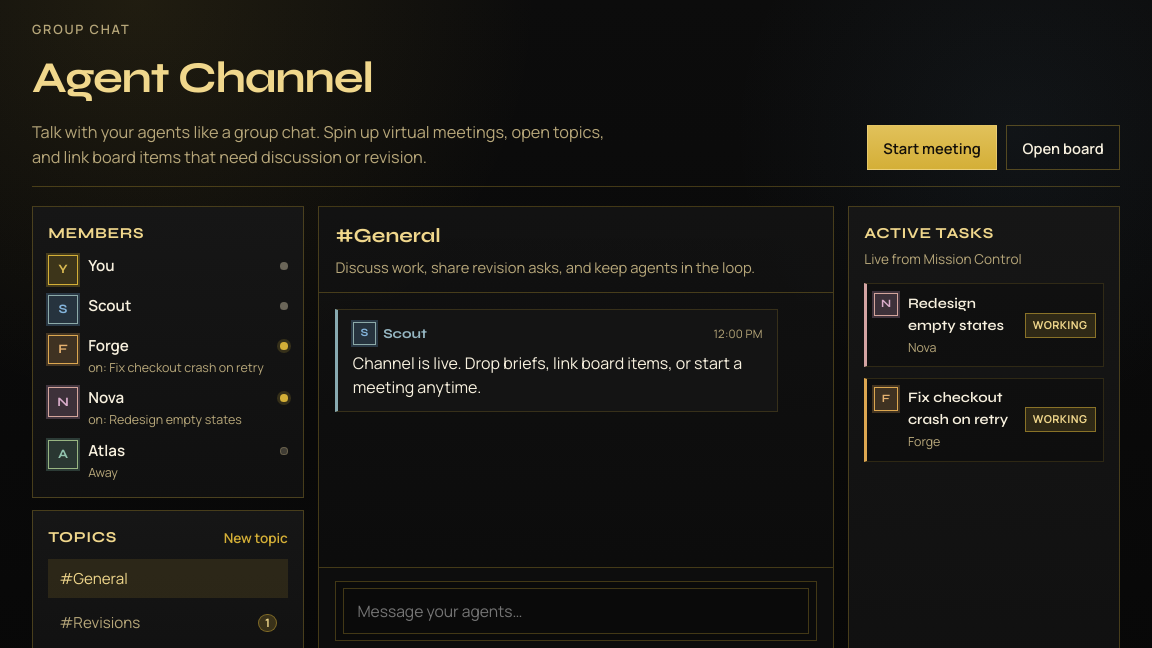
Test case: ChannelPage agent group chat › ends a live meeting
Click the button "Start meeting": (932, 148) 867,125 -> 997,170
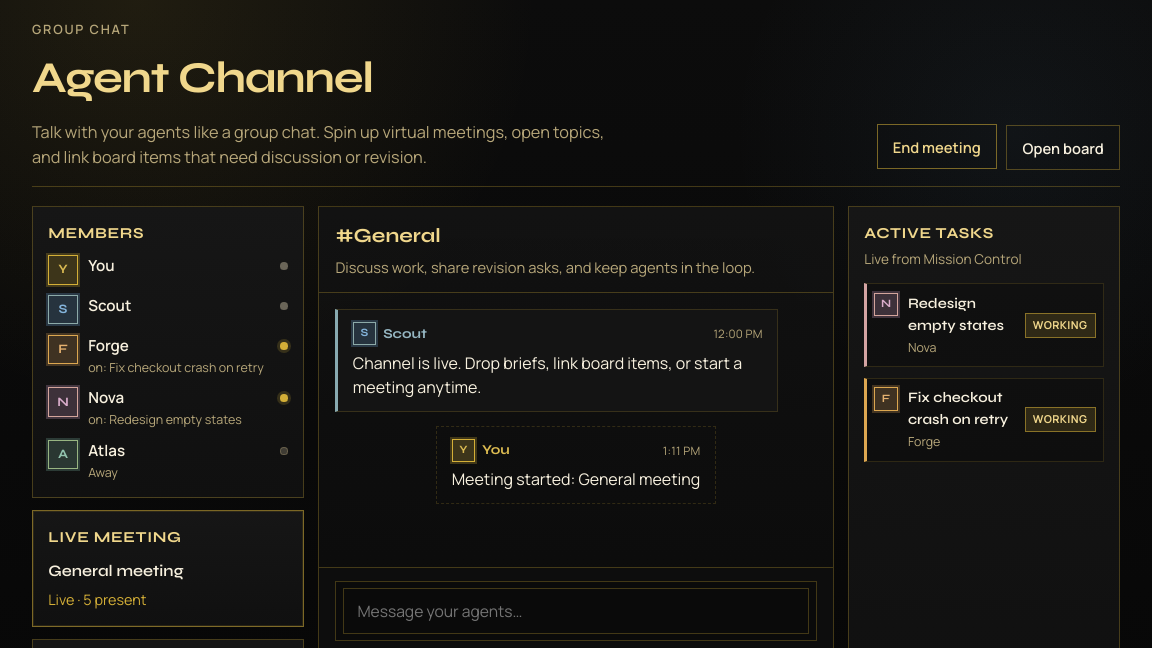
Click the button "End meeting": (937, 147) 876,124 -> 997,169
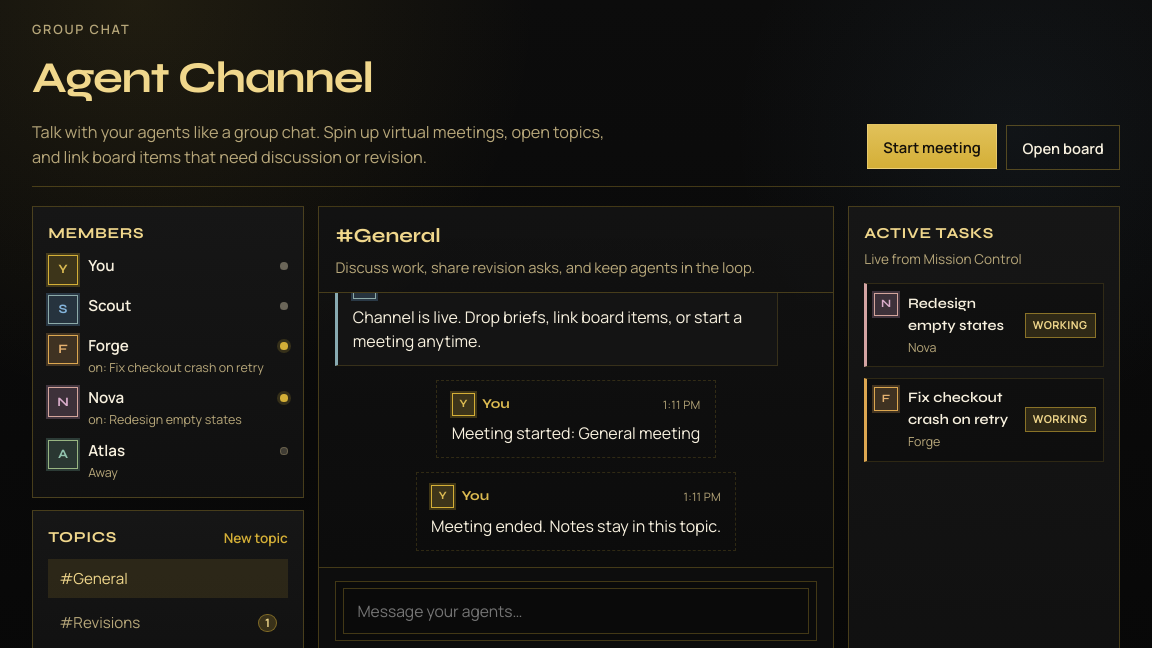
Check: the element with test id "live-meeting" is gone
Check: the text "Meeting ended. Notes stay in this topic." is shown, box 431,514 -> 721,538
